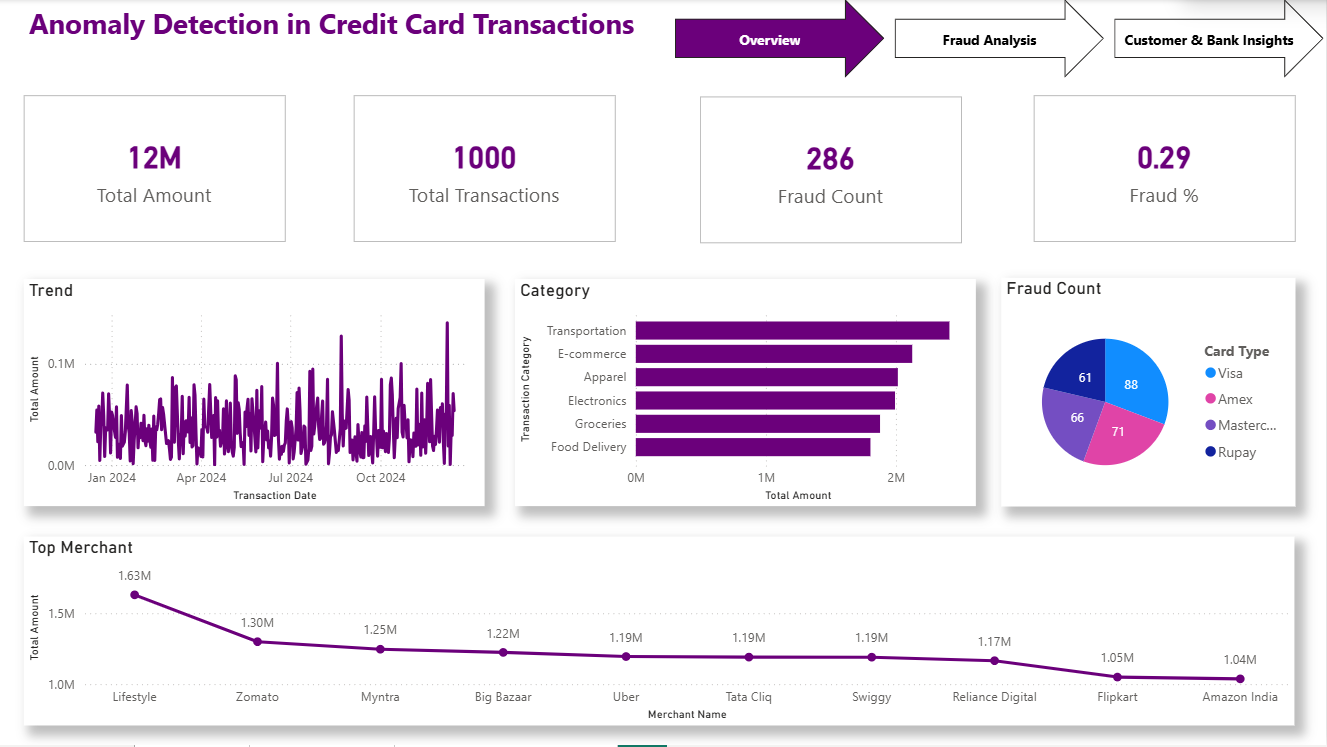

The dashboard page shown, as its layout file describes it:
{"tool":"powerbi","page":{"name":"Overview","canvas":[1280,720],"ordinal":0},"visuals":[{"type":"card","fields":{"Values":["Credit Card Fraud Risk Analysis.Total Amount"]},"box":[23.3,93.3,252.5,141.3],"z":0},{"type":"textbox","box":[23.3,0,616.1,67.2],"z":1000},{"type":"pageNavigator","box":[651.8,0,628.5,76.8],"z":2000},{"type":"card","fields":{"Values":["Credit Card Fraud Risk Analysis.Total Transactions"]},"box":[341.7,93.3,252.5,141.3],"z":3000},{"type":"card","fields":{"Values":["Credit Card Fraud Risk Analysis.Fraud Count"]},"box":[675.1,94.7,252.5,141.3],"z":4000},{"type":"card","fields":{"Values":["Credit Card Fraud Risk Analysis.Fraud %"]},"box":[997.6,93.3,252.5,141.3],"z":5000},{"type":"lineChart","title":"Trend","fields":{"Y":["Credit Card Fraud Risk Analysis.Total Amount"],"Category":["Credit Card Fraud Risk Analysis.Transaction Date"]},"box":[23.3,270.3,444.6,219.6],"z":6000},{"type":"barChart","title":"Category","fields":{"Category":["Credit Card Fraud Risk Analysis.Transaction Category"],"Y":["Credit Card Fraud Risk Analysis.Total Amount"]},"box":[496.7,270.3,444.6,219.6],"z":7000},{"type":"pieChart","title":"Fraud Count","fields":{"Category":["Credit Card Fraud Risk Analysis.Card Type"],"Y":["Credit Card Fraud Risk Analysis.Fraud Count"]},"box":[966,269,284,220.9],"z":8000},{"type":"lineChart","title":"Top Merchant","fields":{"Category":["Credit Card Fraud Risk Analysis.Merchant Name"],"Y":["Credit Card Fraud Risk Analysis.Total Amount"]},"box":[23.3,518.7,1226.8,182.5],"z":9000}]}

Visuals, with their boxes in screenshot pixels (x1, y1, x2, y2), scaled from the page's 1280x720 canvas onto the 1327x747 screenshot:
card - Credit Card Fraud Risk Analysis.Total Amount: [24,97,286,243]
textbox: [24,0,663,70]
pageNavigator: [676,0,1326,80]
card - Credit Card Fraud Risk Analysis.Total Transactions: [354,97,616,243]
card - Credit Card Fraud Risk Analysis.Fraud Count: [700,98,962,245]
card - Credit Card Fraud Risk Analysis.Fraud %: [1034,97,1296,243]
"Trend" lineChart: [24,280,485,508]
"Category" barChart: [515,280,976,508]
"Fraud Count" pieChart: [1001,279,1296,508]
"Top Merchant" lineChart: [24,538,1296,727]
